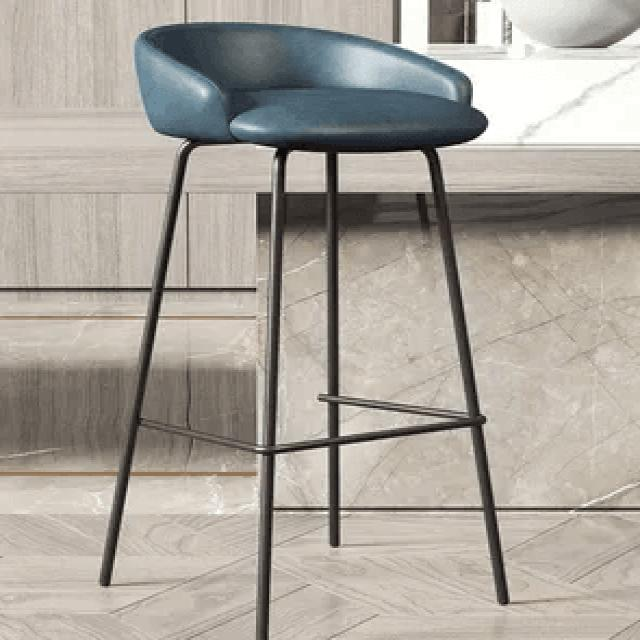chair: (93, 13, 513, 640), (136, 17, 489, 156)
